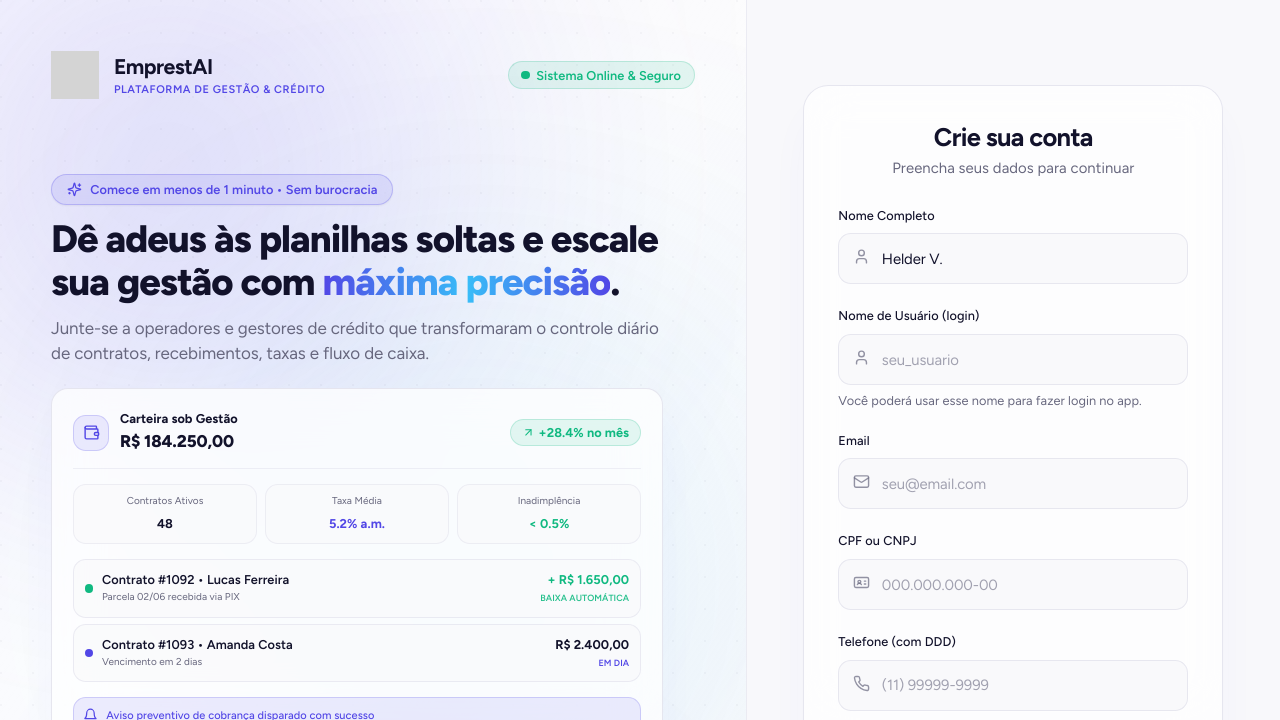
Test: Cadastro Page (Criação de Conta e Aviso de Validação de Email) › avança para o passo 2 e exibe o aviso de validação de email no passo 3 após cadastro
This screenshot has width=1280, height=720.
Earlier steps of the test are not shown.
Type "helder_v" into the field labelled "Nome de Usuário (login)" at (1013, 360), box [838,334,1188,385]
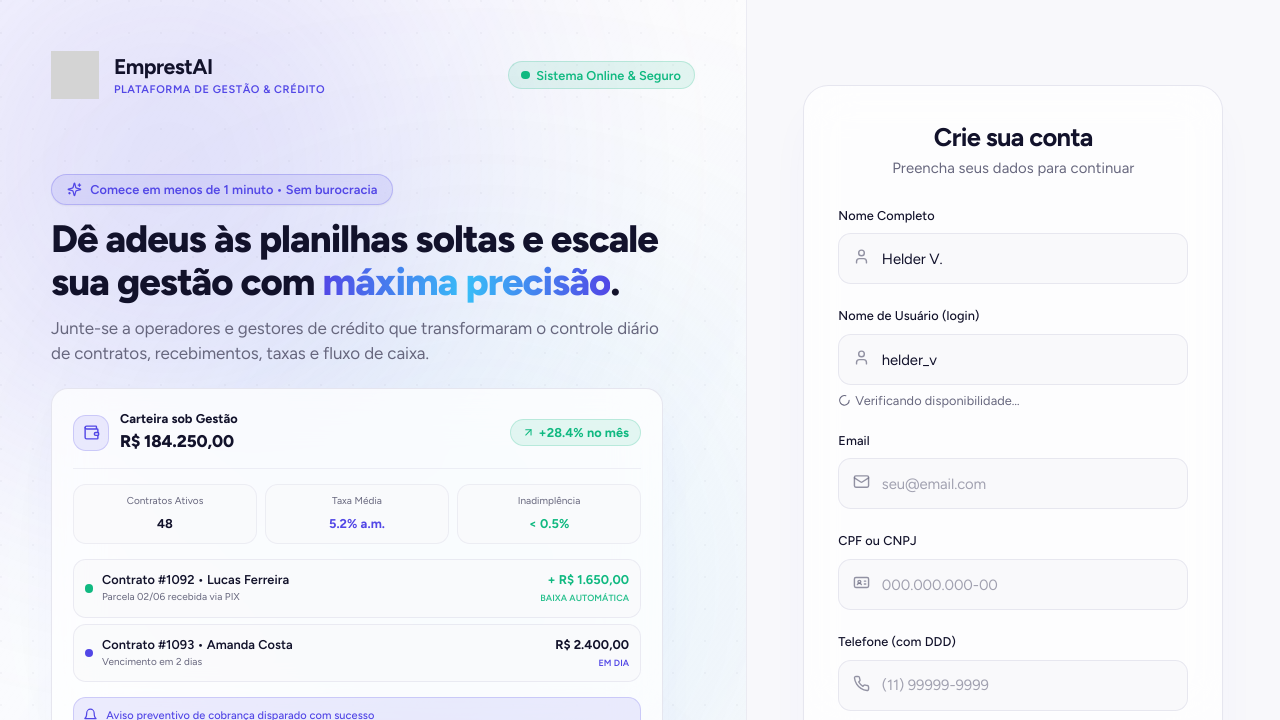
Type "helder@email.com" into the field labelled "Email" at (1013, 484), box [838,458,1188,509]
Type "00000000191" into the field labelled "CPF ou CNPJ" at (1013, 584), box [838,559,1188,610]
Type "11999998888" into the field labelled "Telefone (com DDD)" at (1013, 685), box [838,660,1188,711]
(page scrolled)
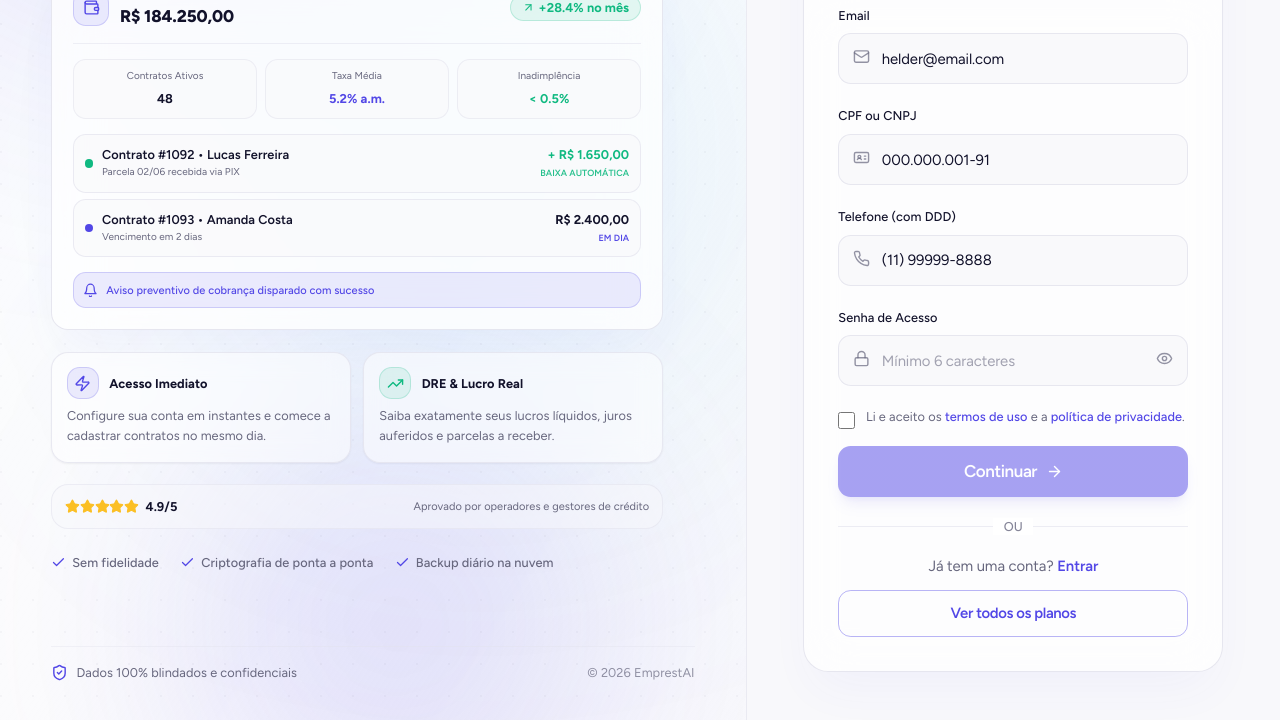
Type "123456" into the password field labelled "Senha de Acesso" at (1013, 361), box [838,335,1188,386]
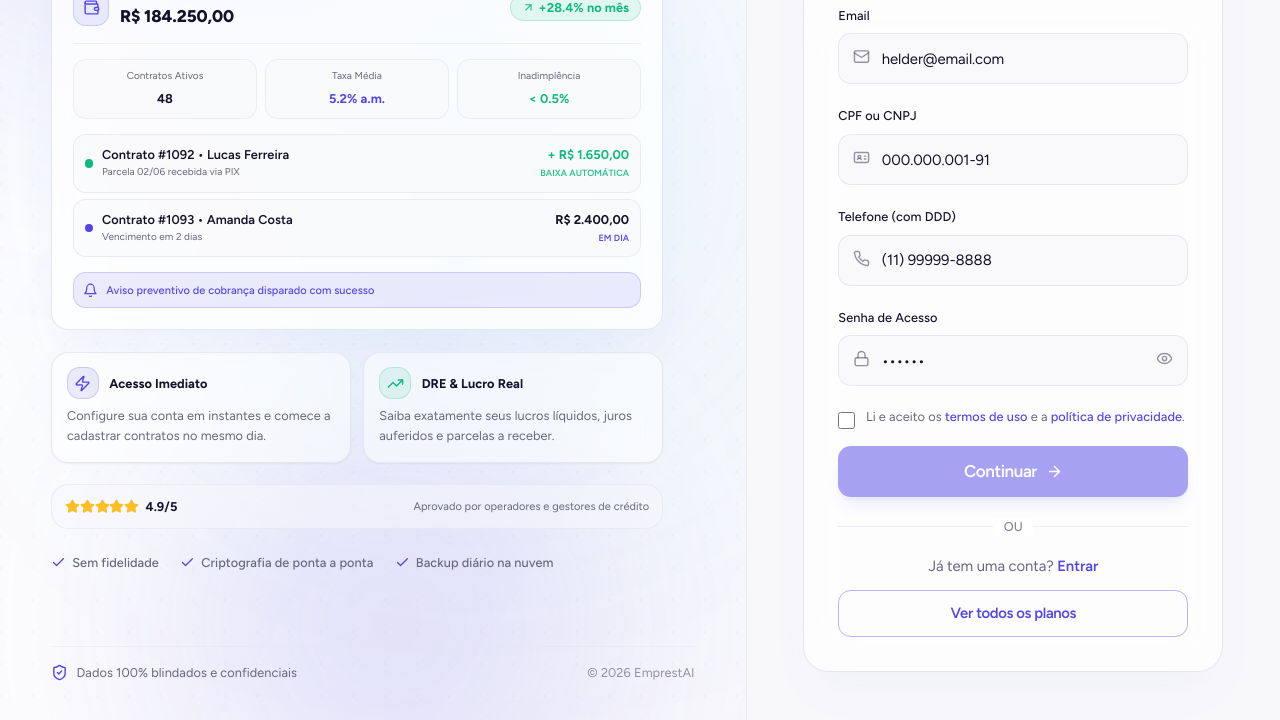
Click the checkbox labelled "Li e aceito os termos de uso e a política de privacidade ." at (847, 420), box [838,412,855,429]
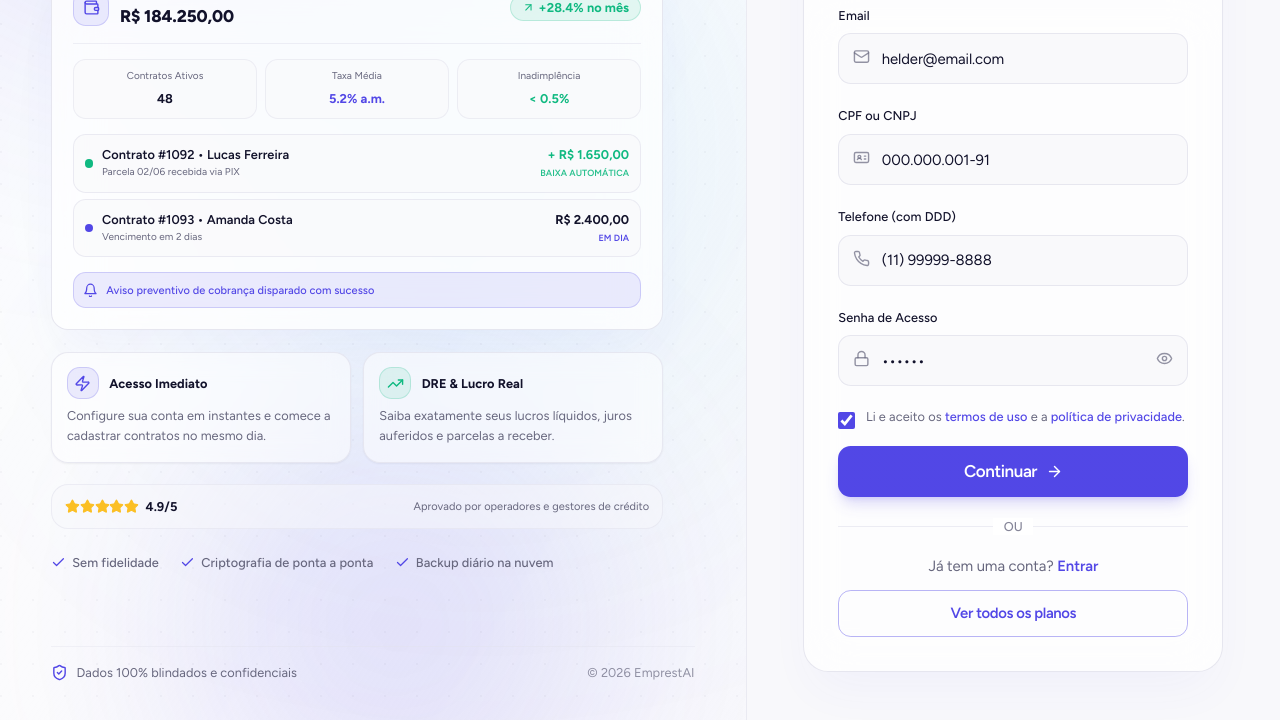
Click the button "Continuar" at (1013, 471), box [838,446,1188,497]
(page scrolled)
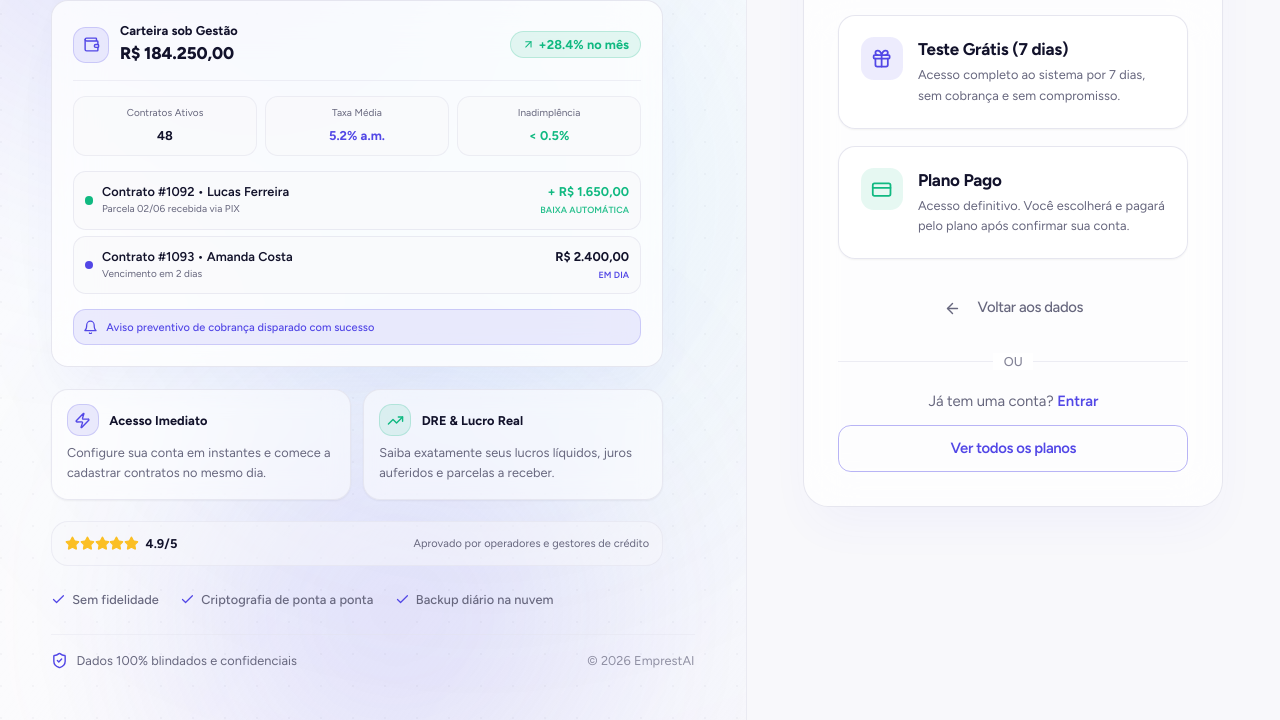
Expected: the heading "Teste Grátis (7 dias)" is shown
Click the heading "Teste Grátis (7 dias)" at (993, 49), box [918,39,1068,59]
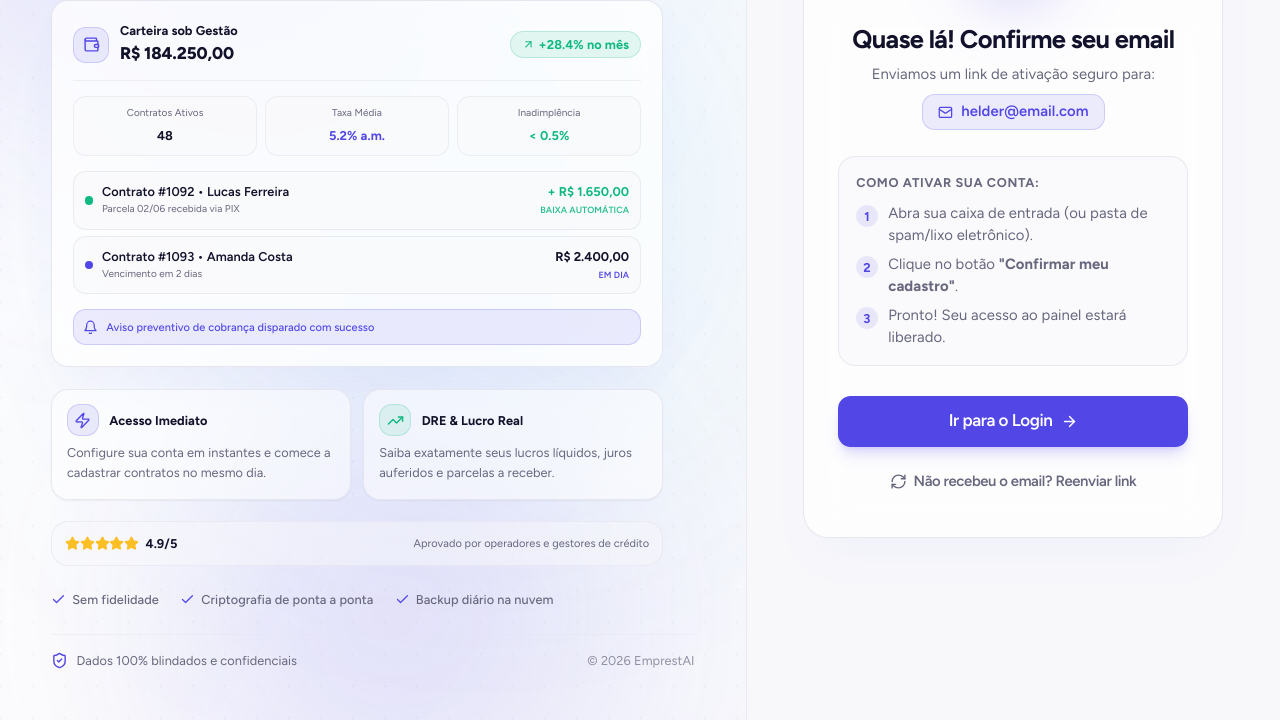
Expected: the heading "Quase lá! Confirme seu email" is shown, [838,22,1188,56]
Expected: the text "helder@email.com" is shown, [961,101,1089,123]
Expected: the text "Como ativar sua conta:" is shown, [856,174,1039,190]
